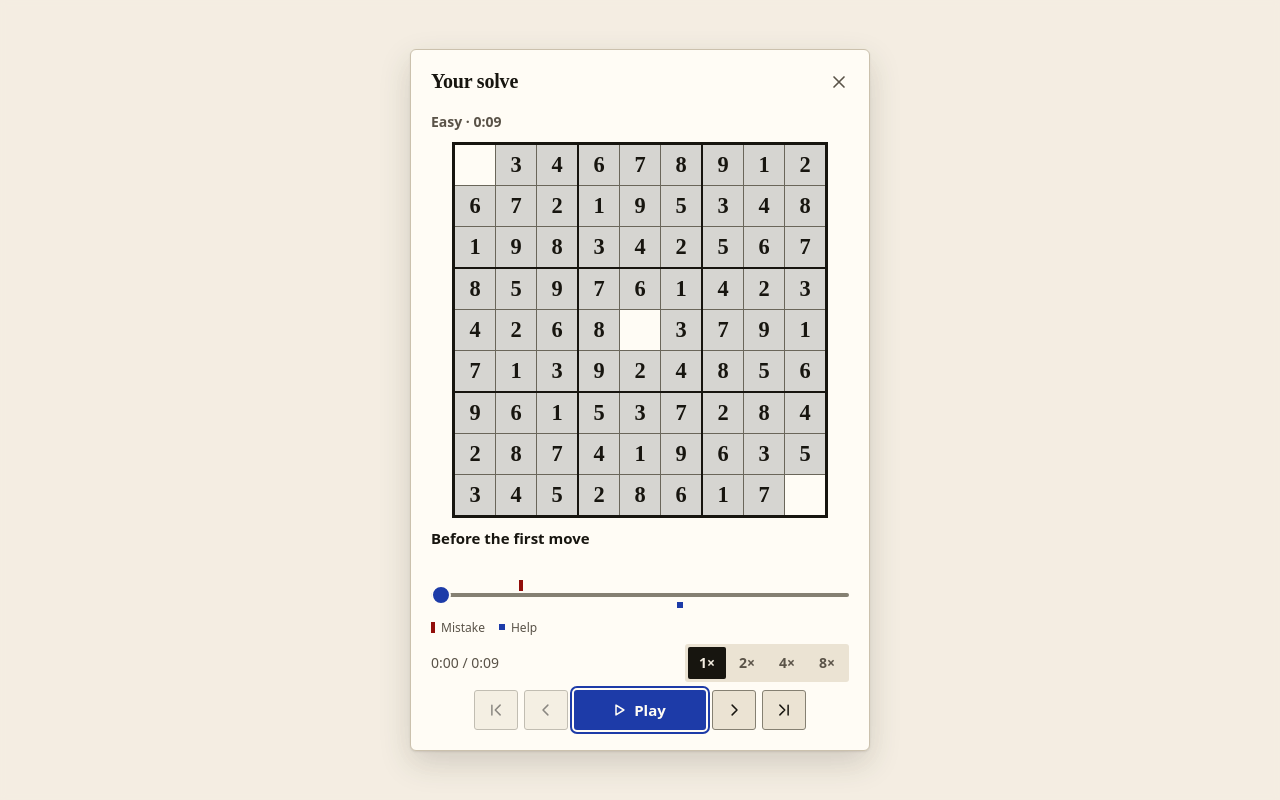
Test case: PlaybackDialog › steps a move at a time, outlining the move’s cell and captioning it
Click the button named "Forward a move" at coordinates (734, 710), box left=712, top=690, right=756, bottom=730
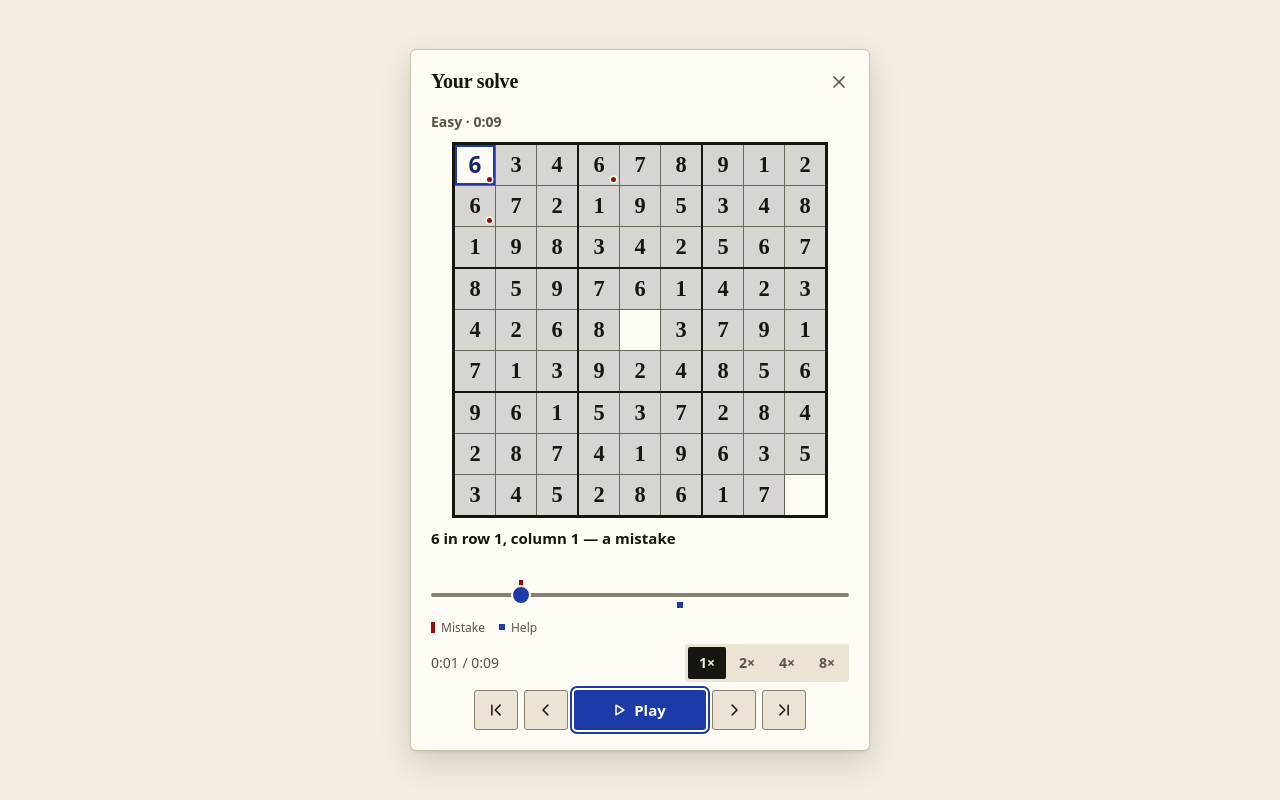
Expected: the number of cells with class "cell--current" is 1, left=455, top=145, right=495, bottom=185
Expected: the text "6 in row 1, column 1 — a mistake" is shown, left=431, top=528, right=676, bottom=548
Click the button named "Forward a move" at coordinates (734, 710), box left=712, top=690, right=756, bottom=730
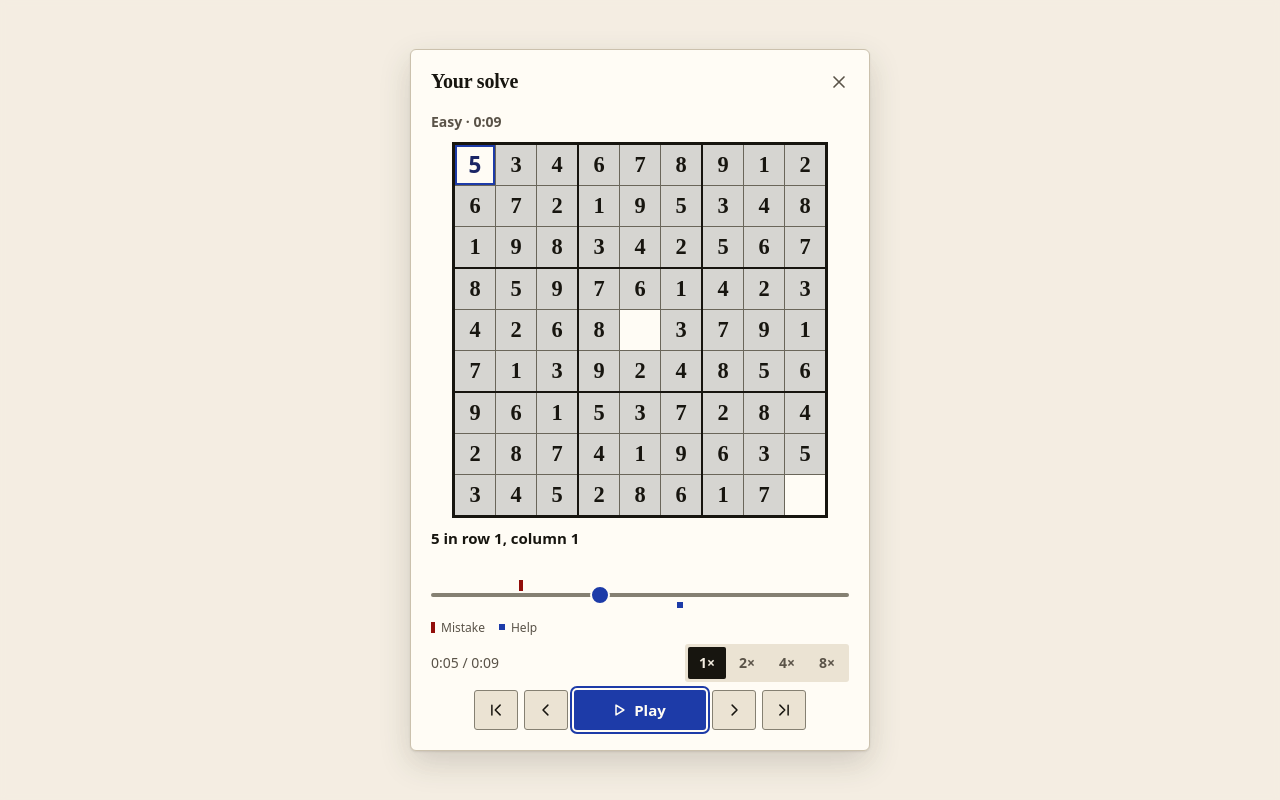
Click the button named "Forward a move" at coordinates (734, 710), box left=712, top=690, right=756, bottom=730
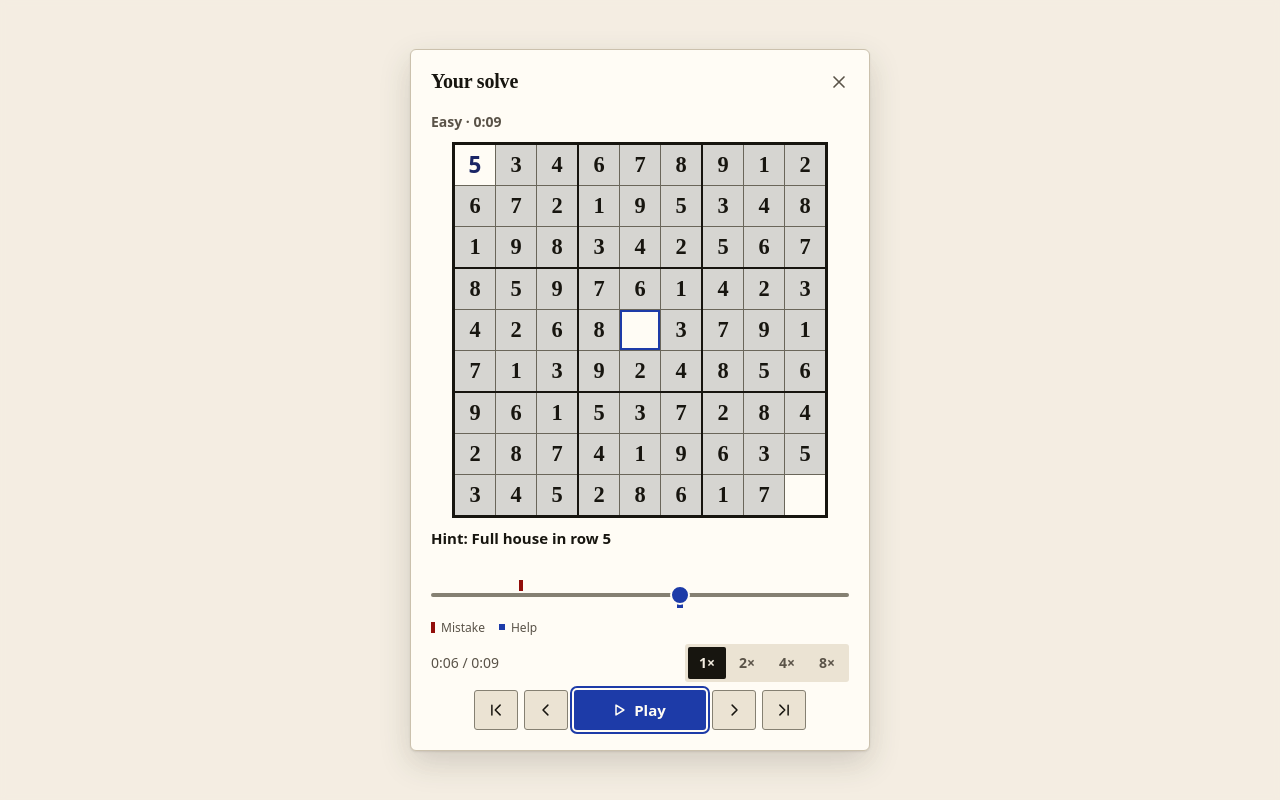
Expected: the text "Hint: Full house in row 5" is shown, left=431, top=528, right=611, bottom=548
Click the button named "Back a move" at coordinates (546, 710), box left=524, top=690, right=568, bottom=730
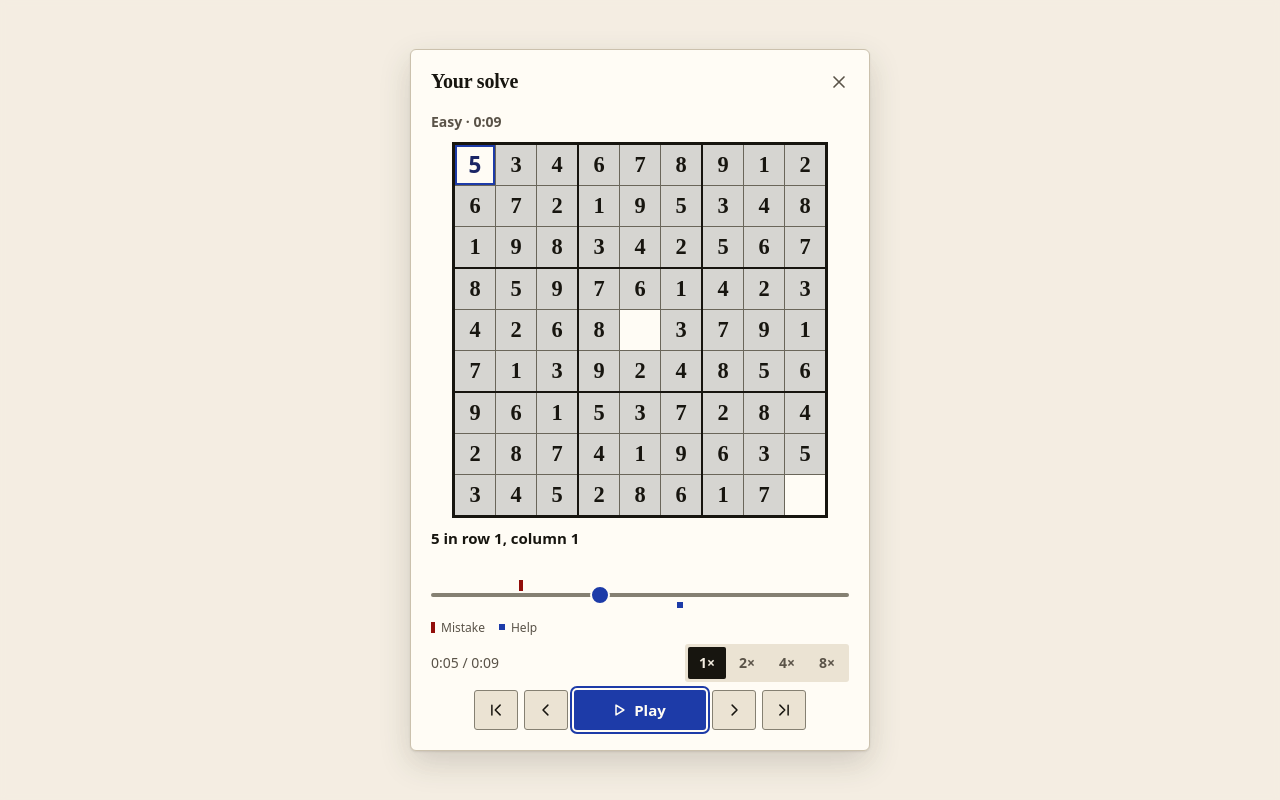
Expected: the text "5 in row 1, column 1" is shown, left=431, top=528, right=579, bottom=548
